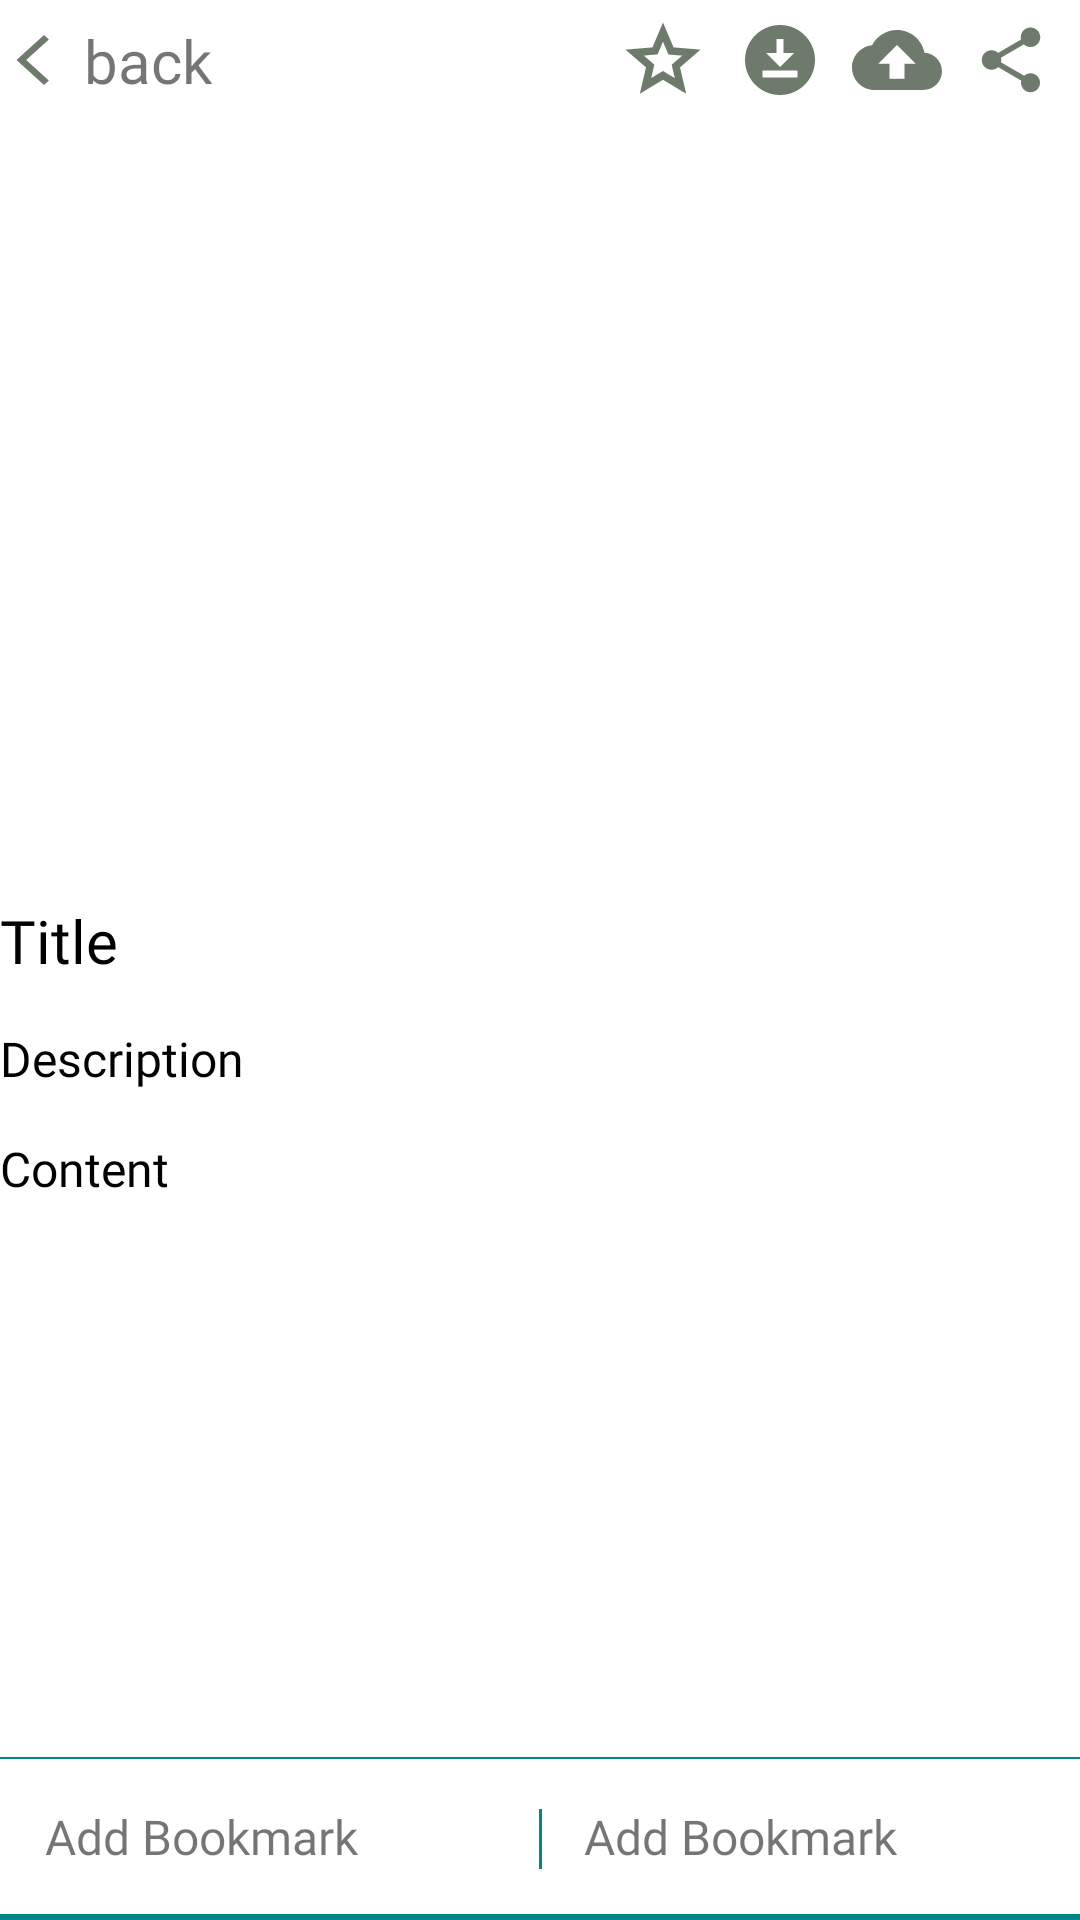

Icon click points for this 1080 × 1920 phone screenshot, format (x=x, y=y):
cloud upload: (x=897, y=60)
download for offline: (x=780, y=60)
grade: (x=663, y=58)
share: (x=1011, y=60)
